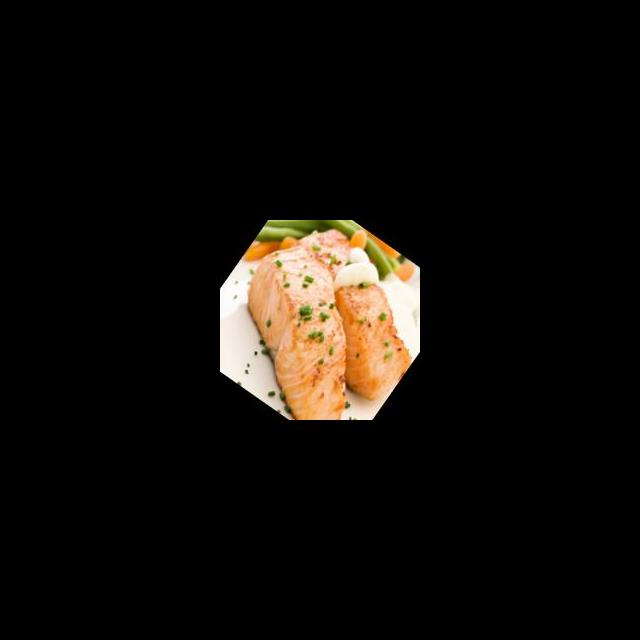ca hoi: (220, 229, 410, 420), (244, 220, 420, 410)
